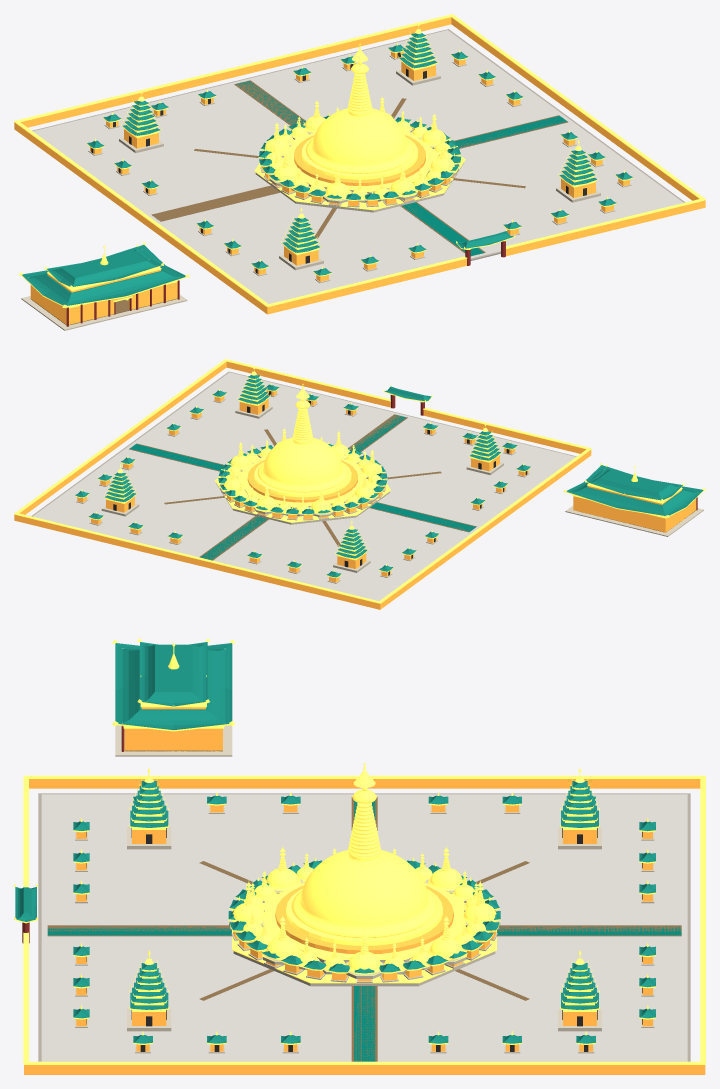
File: pagoda.glb
The picture shows the model from 3 angles, top to bottom: view 1: azimuth 30°, elevation 25°; view 2: azimuth 150°, elevation 25°; view 3: azimuth 270°, elevation 25°; orthographic projection. The views are drawn at different scales.
Visible parts, largest first — view 1: pagoda; view 2: pagoda; view 3: pagoda.
Boxes of the visible parts, box(x1,y1,x2,y2) form: pagoda: box(14, 14, 705, 330); pagoda: box(14, 359, 705, 609); pagoda: box(14, 638, 705, 1074).
Bounding box in the file's own units: 308 × 60.94 × 225.
